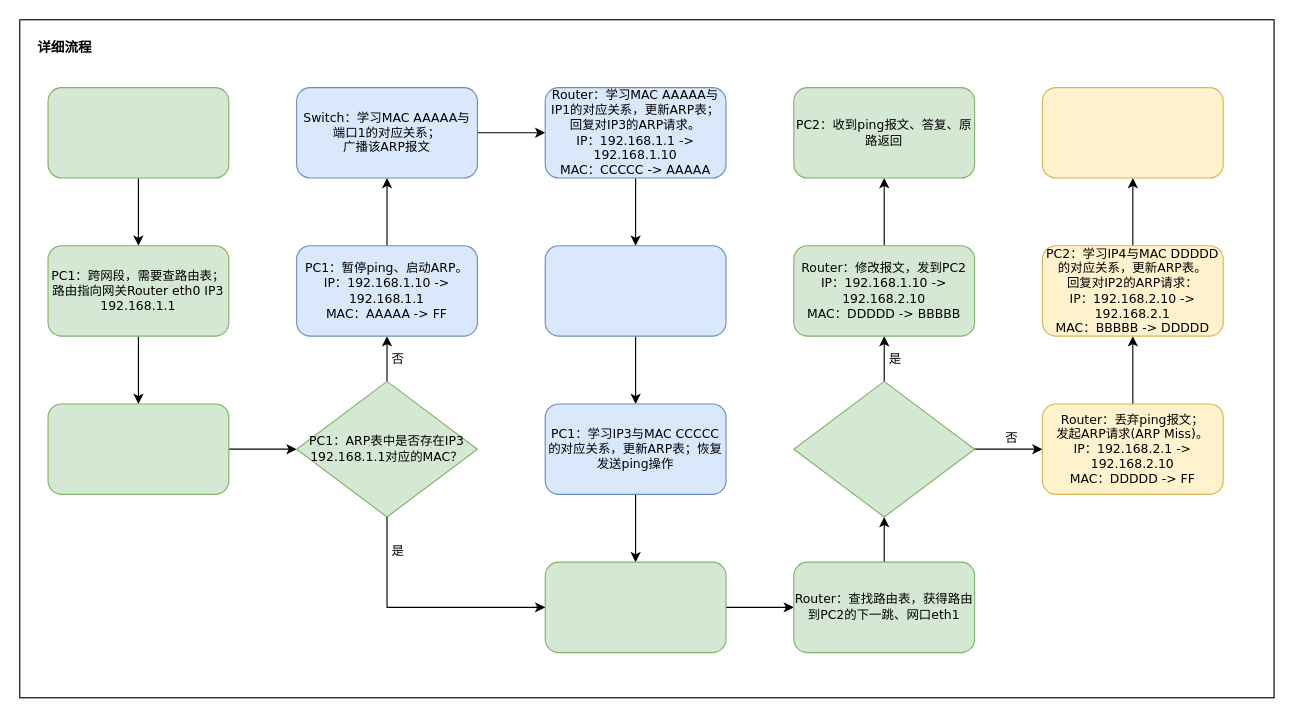
This 1294x718 diagram has some shape labels left out. The shapes that lost their labels are listed below. From the top down, each one's centre as x and y in pixels, then its label:
At point (138, 132): "PC1：ping PC2 192.168.1.10 -> 192.168.2.10".
At point (1132, 132): "Router：学习MAC BBBBB与IP2的对应关系，更新ARP表。 收到下一个ping报文时，即可正常转发(所以ping的第一个报文会被丢弃)".
At point (635, 290): "Switch：学习MAC CCCCC与端口2的对应关系；转发给PC1".
At point (138, 448): "PC1：通过ARP表，查网关Router eth0 IP3 192.168.1.1所对应MAC地址".
At point (884, 448): "Router：查ARP表， 是否有下一跳的MAC地址".
At point (635, 607): "PC1：发送到PC2的ping报文。 IP：192.168.1.10 -> 192.168.2.10 MAC：AAAAA -> CCCCC".
